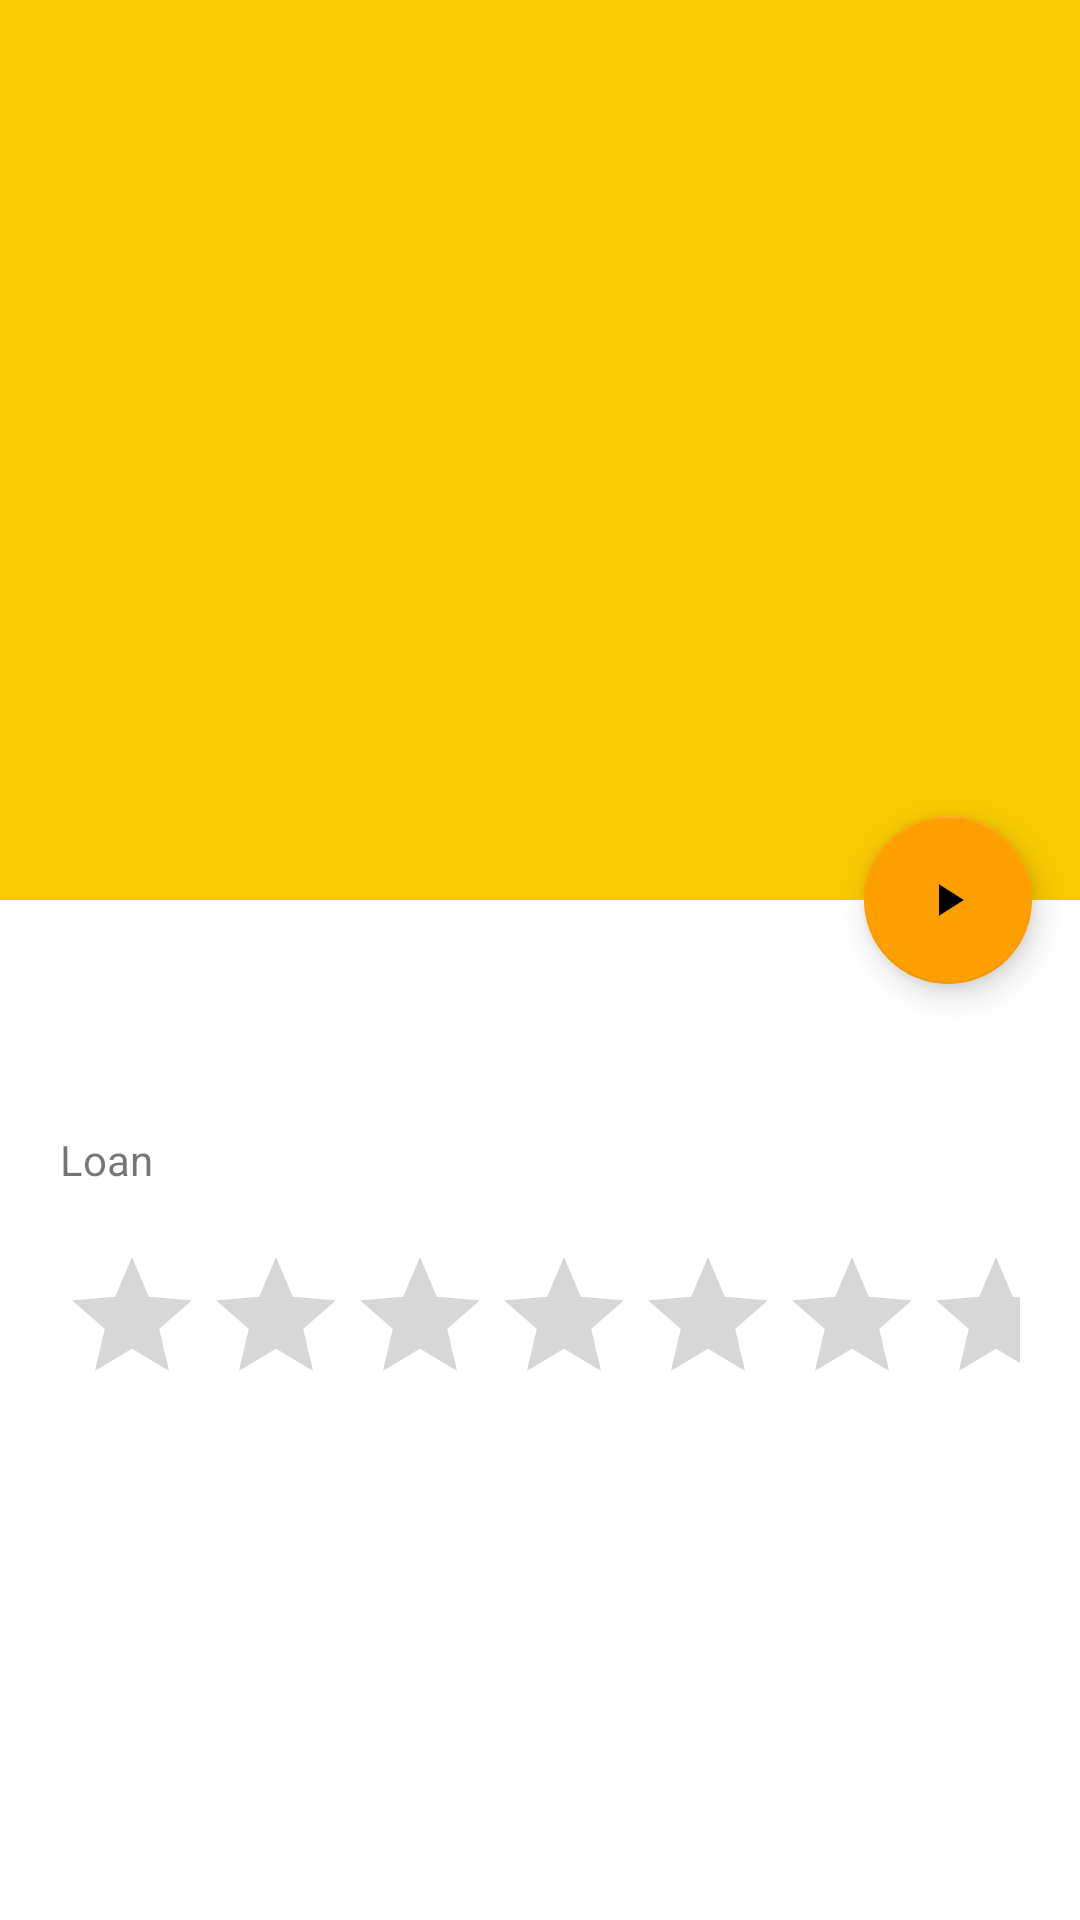

Screen size 1080 x 1920. Icon name, then its center in pixels as (x=x, y=y):
play: (x=948, y=900)
